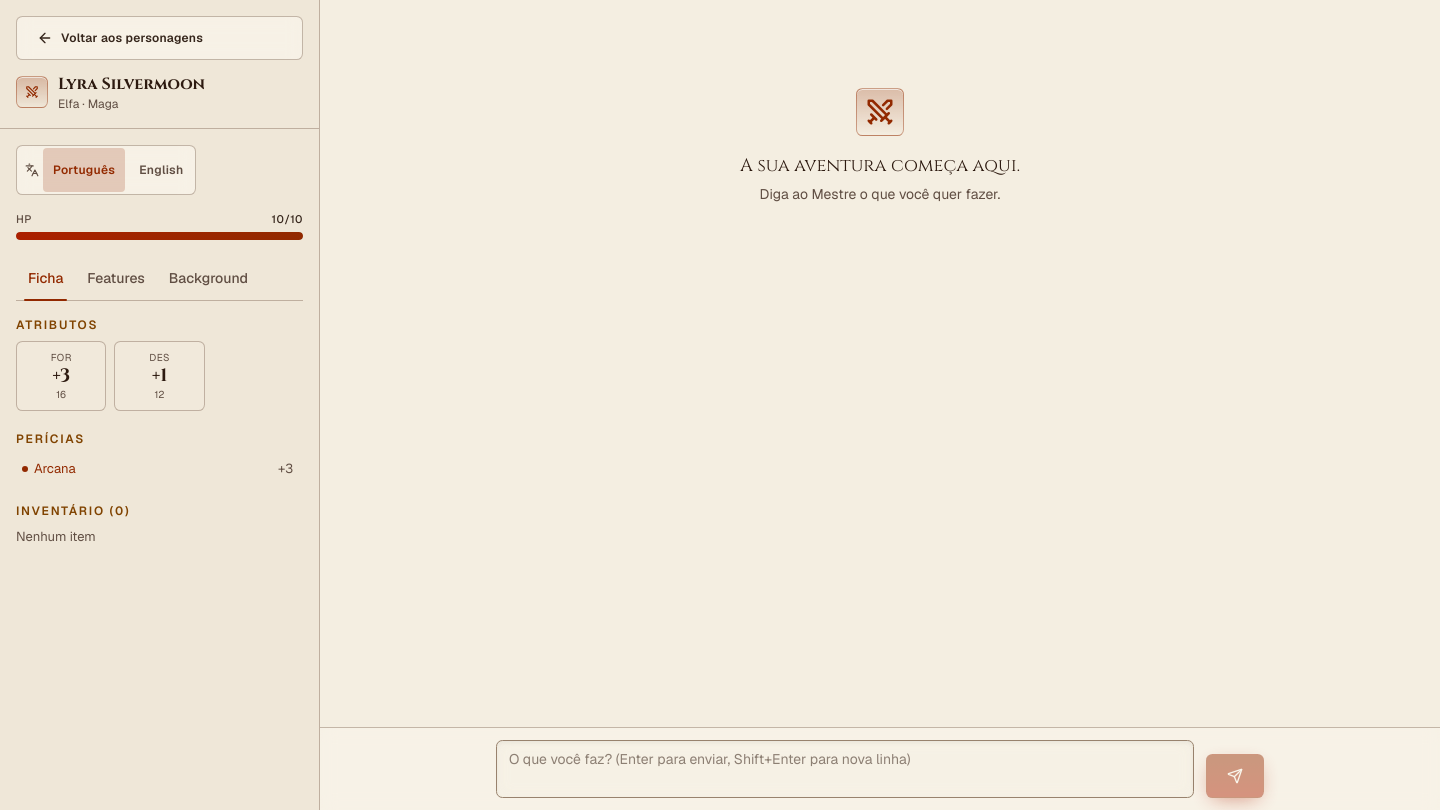
Scenario: GameView — abas na ficha (US-45) › ao clicar na aba Background mostra a história e uma fraqueza
The image size is (1440, 810).
Click the tab "Background" at (208, 278), box [157,256,260,300]
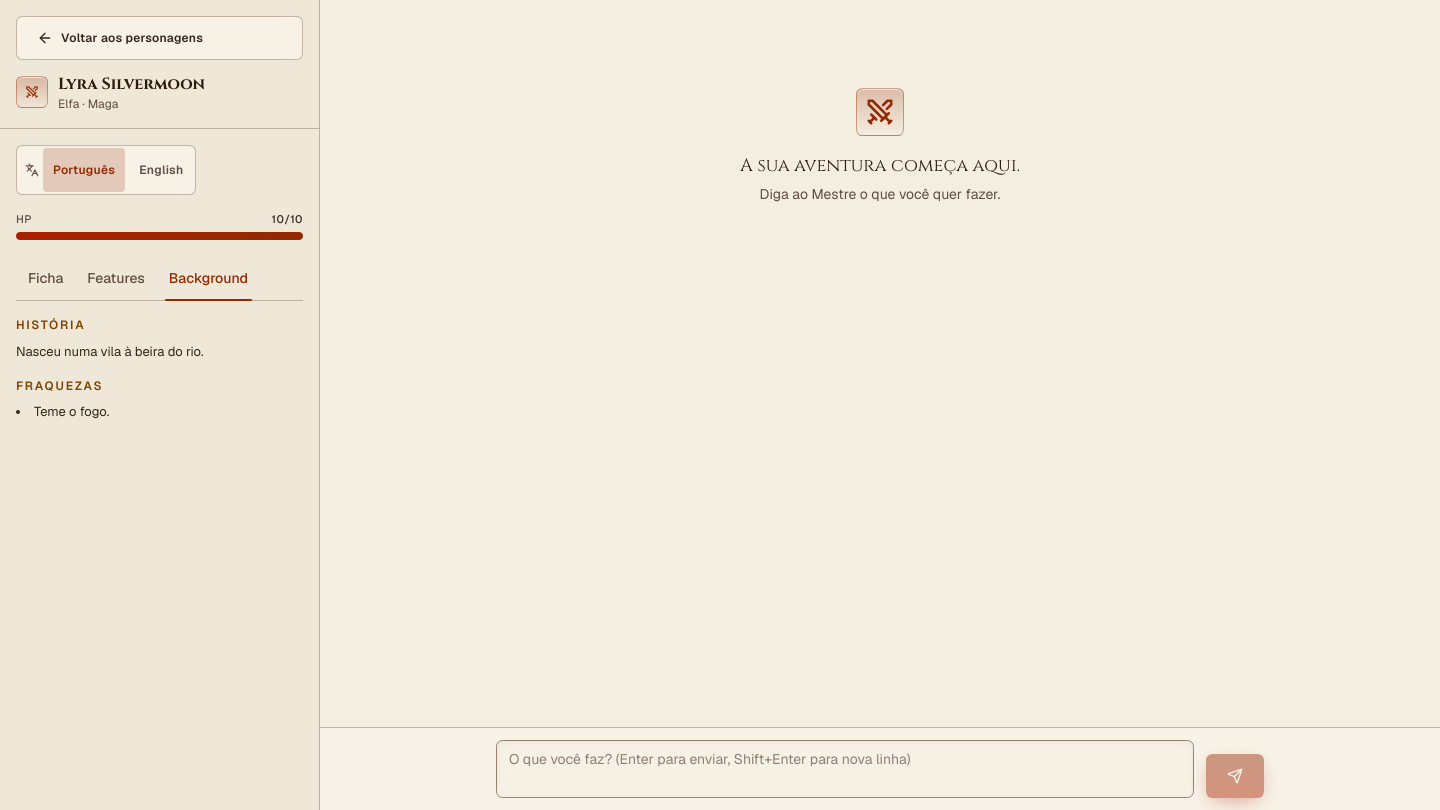
Result: the text "Nasceu numa vila à beira do rio." is shown at [16,342,204,360]
Result: the list item "Teme o fogo." is shown at [34,403,109,420]
Result: the heading "Atributos" is gone
